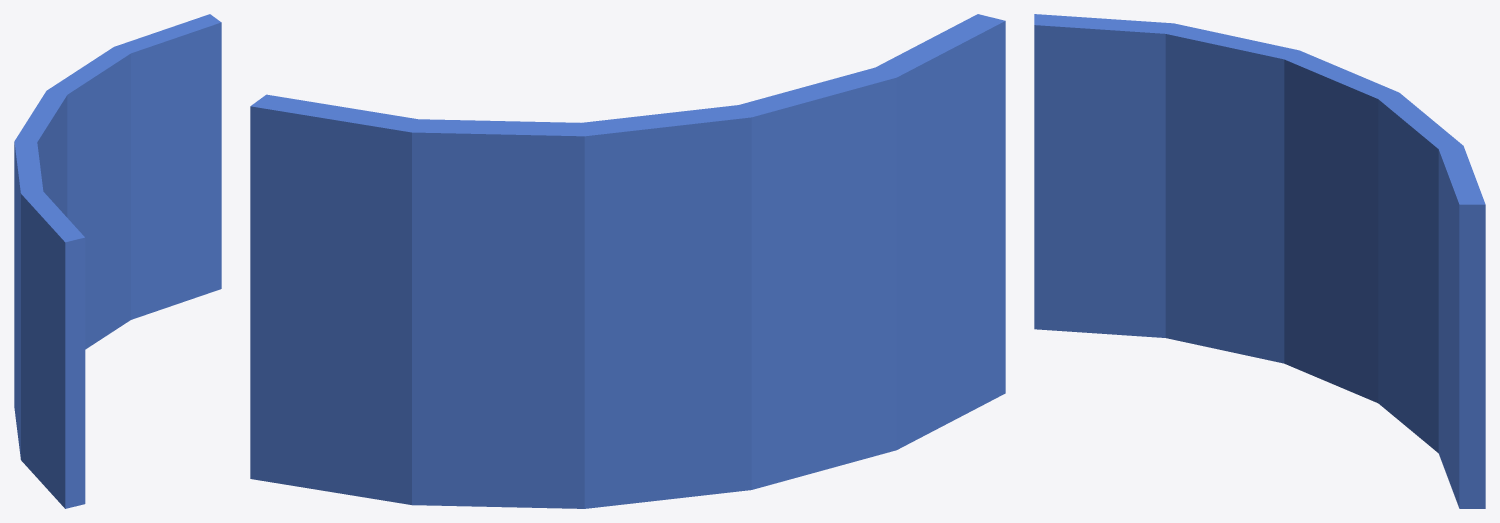
File: WallWindow_Corner_Round_Outer_Collision.fbx
The picture shows the model from 3 angles, left to right: view 1: azimuth 30°, elevation 25°; view 2: azimuth 150°, elevation 25°; view 3: azimuth 270°, elevation 25°; orthographic projection. The views are drawn at different scales.
Visible parts, largest first — view 1: WallWindow_Corner_Round_Outer_Collision; view 2: WallWindow_Corner_Round_Outer_Collision; view 3: WallWindow_Corner_Round_Outer_Collision.
Boxes of the visible parts, box(x1,y1,x2,y2) form: WallWindow_Corner_Round_Outer_Collision: box(14, 14, 221, 508); WallWindow_Corner_Round_Outer_Collision: box(250, 14, 1005, 508); WallWindow_Corner_Round_Outer_Collision: box(1034, 14, 1485, 508).
Size of the model in its own units: 403 by 300 by 403.
